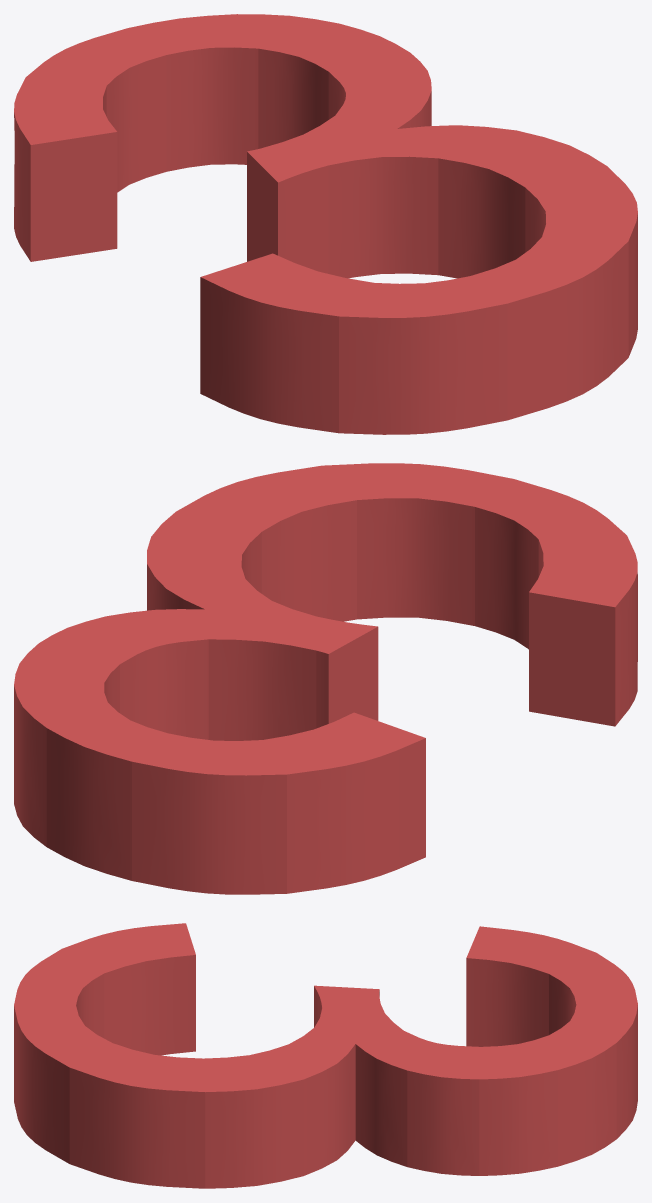
3 views of the same model, one above another, from view 1: azimuth 30°, elevation 25°; view 2: azimuth 150°, elevation 25°; view 3: azimuth 270°, elevation 25° (orthographic). The views are drawn at different scales.
Parts seen in each view (by area): view 1: Body65; view 2: Body65; view 3: Body65.
Part boxes in pixels (x1=…): Body65: x1=14, y1=14, x2=637, y2=434; Body65: x1=14, y1=463, x2=637, y2=894; Body65: x1=14, y1=923, x2=637, y2=1188.
Bounding box in the file's own units: 18.75 × 5 × 29.26.
